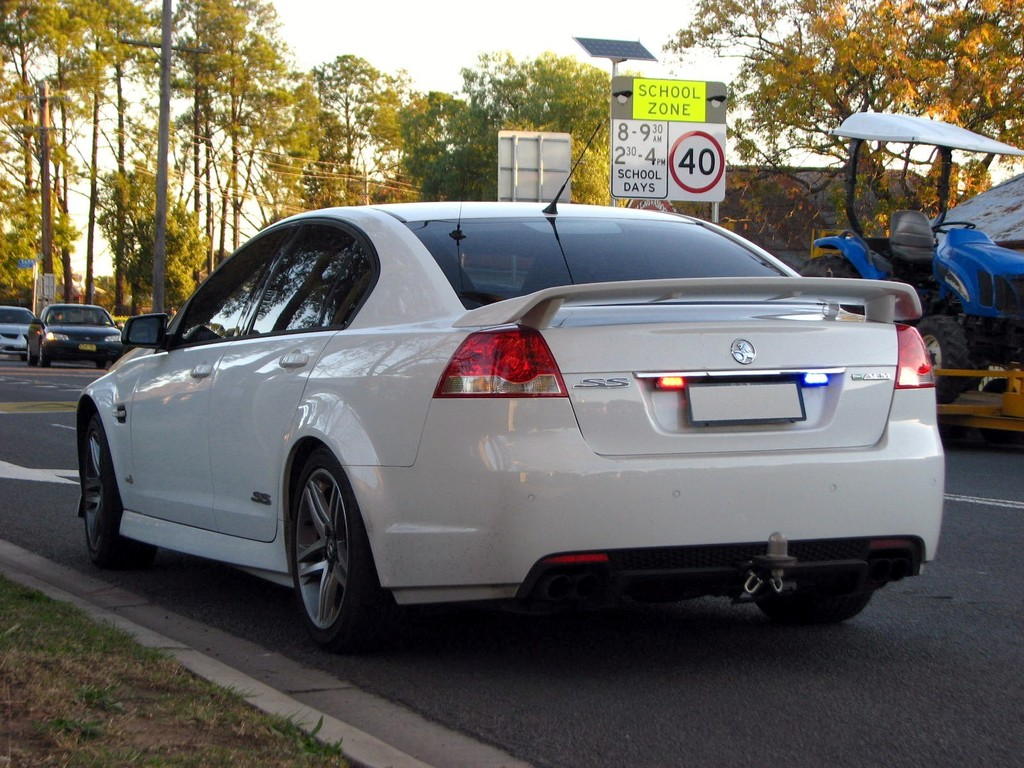Car: (65, 120, 940, 637), (31, 303, 122, 362), (0, 306, 43, 351)
